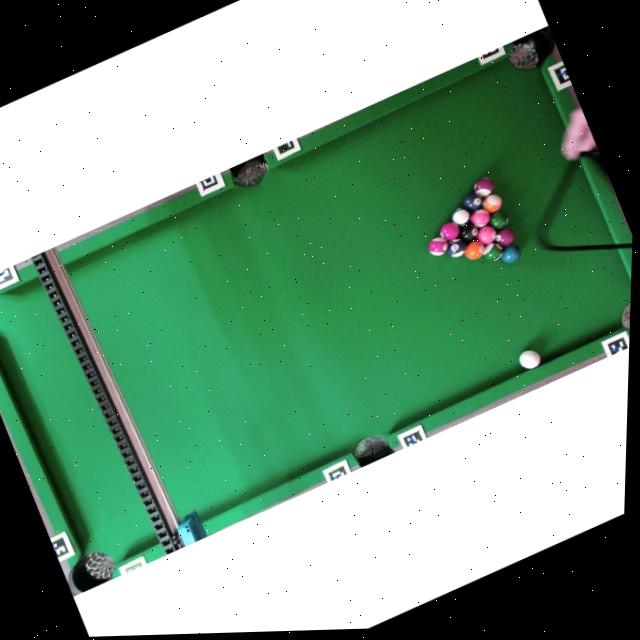cue ball: (516, 346, 543, 372)
other: (478, 238, 506, 265), (461, 237, 488, 263), (458, 189, 485, 215), (443, 234, 470, 260), (424, 233, 451, 259), (437, 218, 463, 244), (473, 221, 499, 247), (497, 241, 523, 266), (467, 205, 493, 230), (457, 220, 483, 245), (479, 190, 505, 215), (471, 174, 497, 199), (486, 207, 512, 232), (492, 224, 517, 249), (448, 204, 473, 229)
